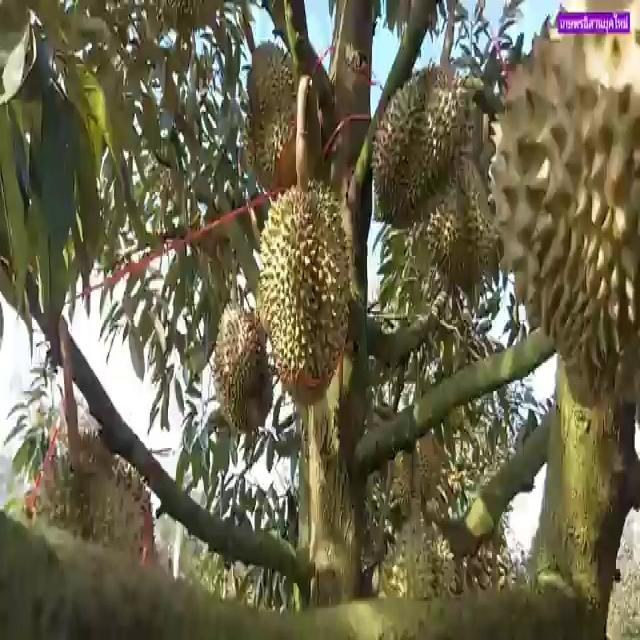durian: (484, 3, 639, 410), (246, 171, 355, 419), (25, 428, 159, 622), (391, 124, 507, 309), (366, 57, 480, 238), (372, 502, 461, 638), (242, 32, 314, 196), (212, 295, 279, 439)
